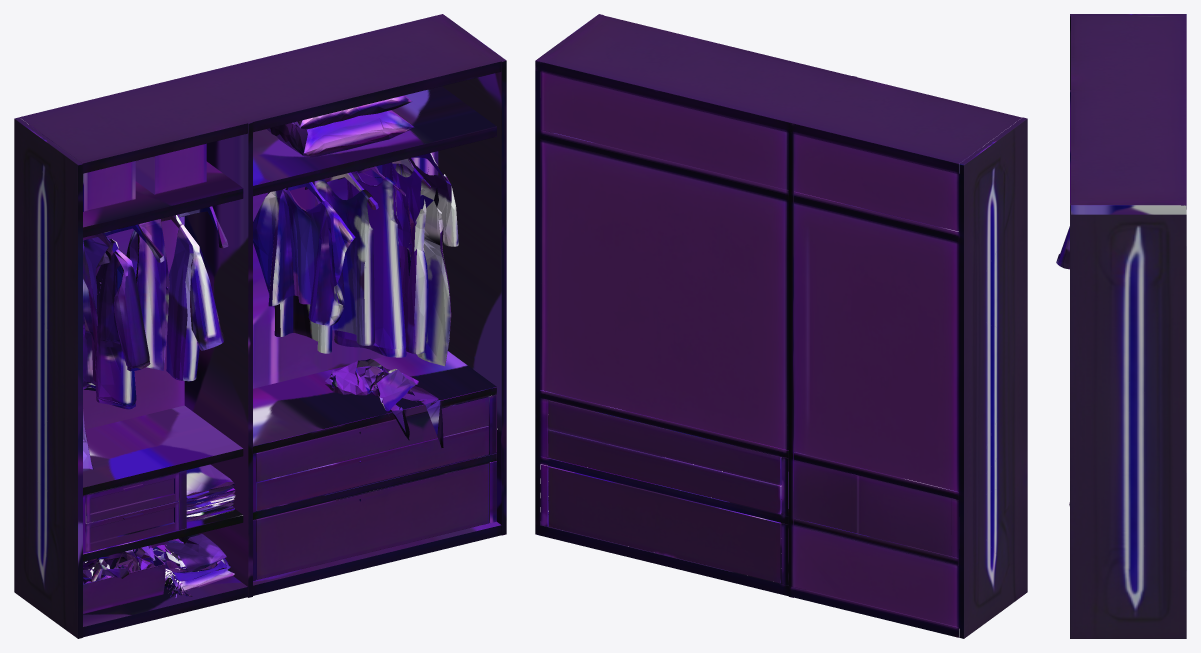
Rendered from edited_mesh.glb.
3 renders of one model, left to right at view 1: azimuth 30°, elevation 25°; view 2: azimuth 150°, elevation 25°; view 3: azimuth 270°, elevation 25°, orthographic. The views are drawn at different scales.
Parts seen in each view (by area): view 1: solid_001_wire; view 2: solid_001_wire; view 3: solid_001_wire.
Part boxes in pixels (box(x1,y1,x2,y2)): solid_001_wire: box(14, 14, 506, 638); solid_001_wire: box(535, 14, 1027, 638); solid_001_wire: box(1056, 14, 1186, 638).
Bounding box in the file's own units: 1.28 × 1.36 × 0.3697.
Materials: 1 (1 with a texture image).
